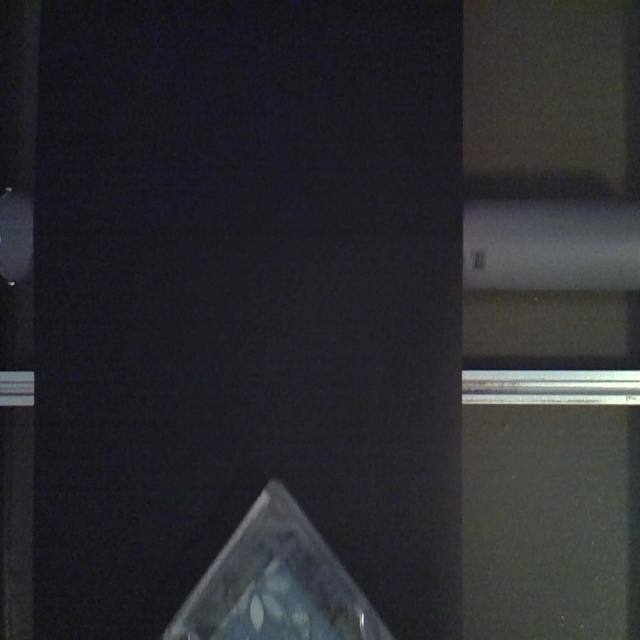mixed-plastics: (159, 473, 397, 637)
